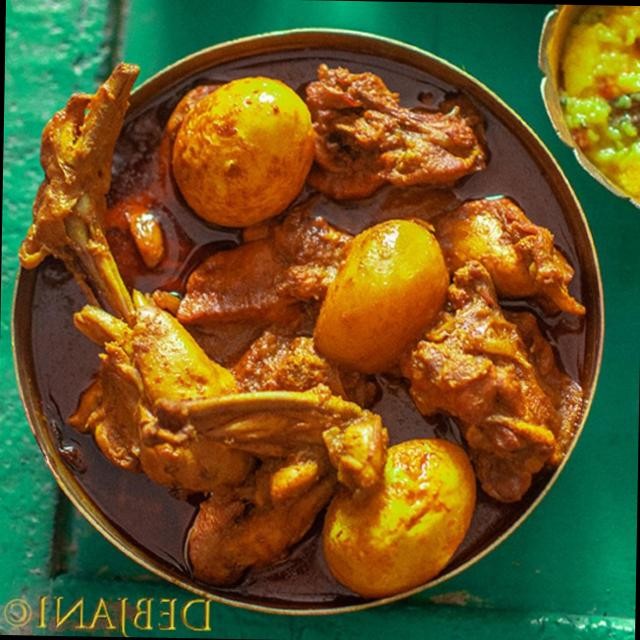chicken: (21, 53, 556, 603)
